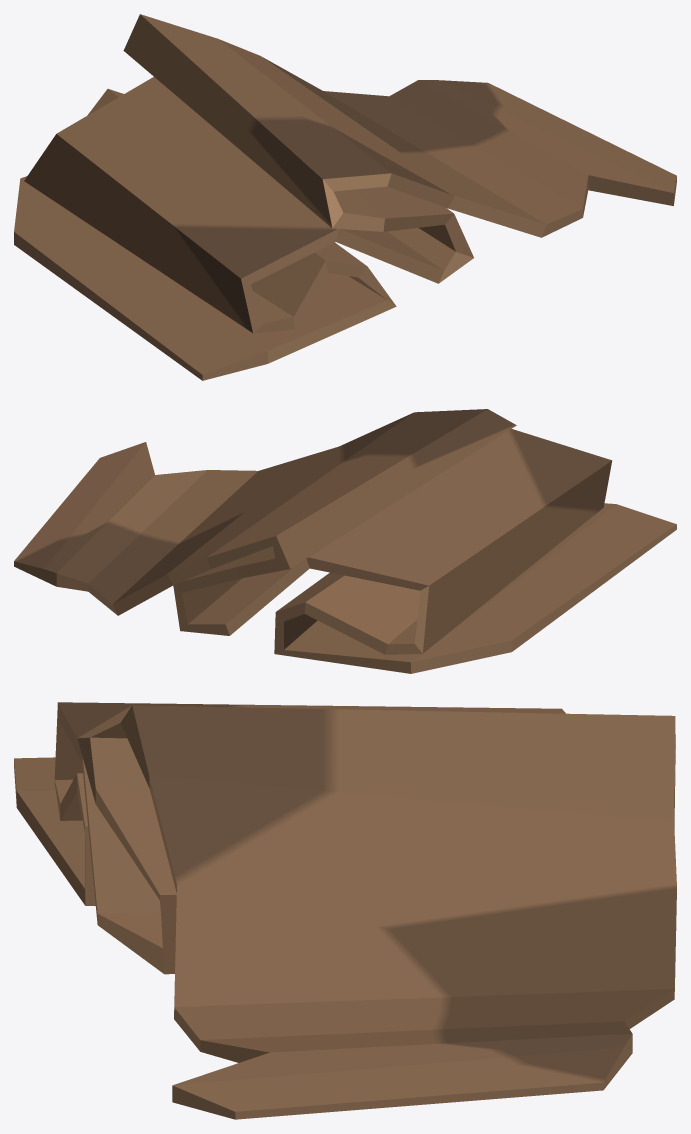
File: SM_Skin_Flap.gltf
3 views of the same model, one above another, from view 1: azimuth 30°, elevation 25°; view 2: azimuth 150°, elevation 25°; view 3: azimuth 270°, elevation 25° (orthographic). The views are drawn at different scales.
Visible parts, largest first — view 1: SM_Skin_Flap; view 2: SM_Skin_Flap; view 3: SM_Skin_Flap.
Boxes of the visible parts, <box> form: SM_Skin_Flap: <box>14,14,676,380</box>; SM_Skin_Flap: <box>14,409,676,673</box>; SM_Skin_Flap: <box>14,702,676,1119</box>.
Size of the model in its own units: 0.6292 by 0.1422 by 0.4968.
Materials: 1 (1 with a texture image).
